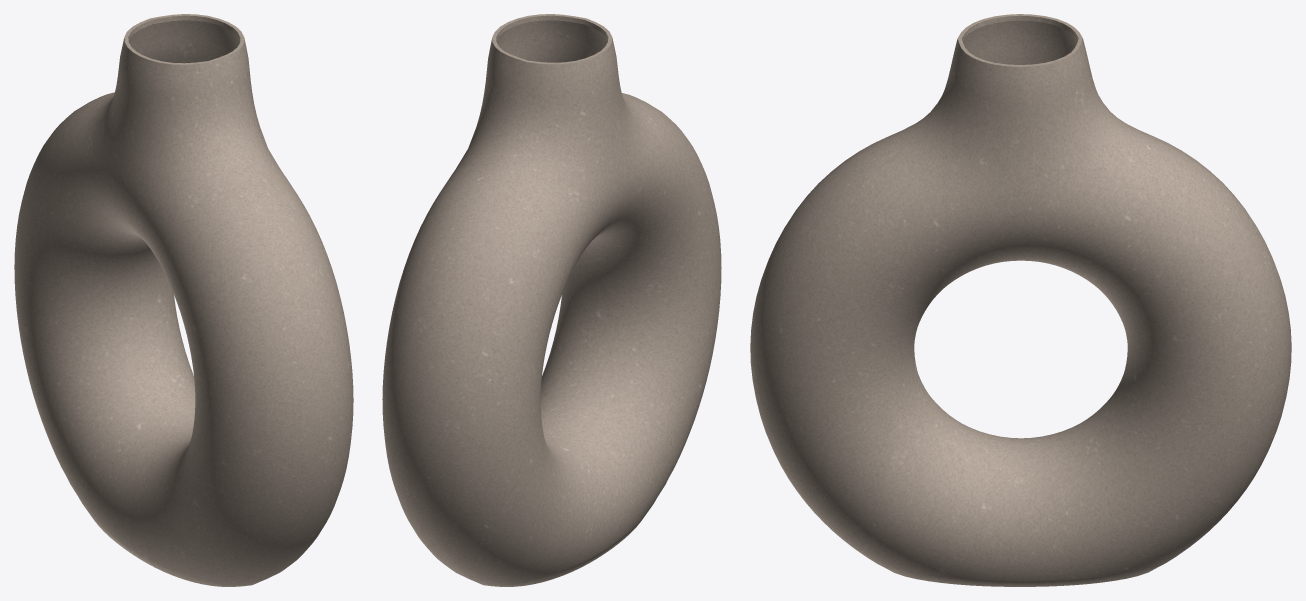
The model's file is vase.glb.
3 renders of one model, left to right at view 1: azimuth 30°, elevation 25°; view 2: azimuth 150°, elevation 25°; view 3: azimuth 270°, elevation 25°, orthographic. The views are drawn at different scales.
Visible parts, largest first — view 1: Object_20; view 2: Object_20; view 3: Object_20.
Boxes of the visible parts, <box> form: Object_20: <box>14,14,353,586</box>; Object_20: <box>382,14,721,586</box>; Object_20: <box>750,14,1291,586</box>.
Bounding box in the file's own units: 3.04 × 10.49 × 9.9.
1 material, 1 textured.
